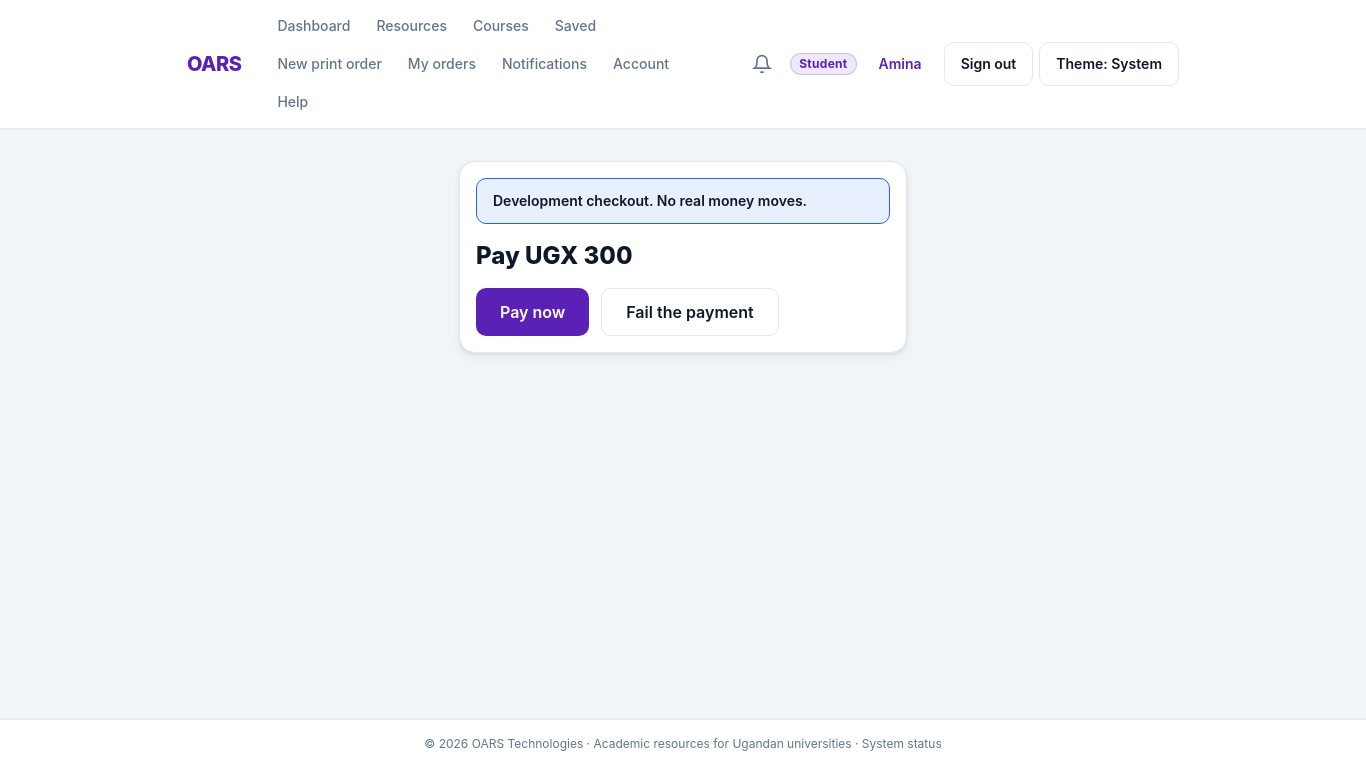
Test: FakeCheckoutPage (development only) › drives the signed-webhook pipeline through the dev endpoint, then shows what the SERVER says
Expected: the heading "Pay UGX 300" is shown, [476, 241, 632, 270]
Click the button "Pay now": (533, 312) [476, 288, 589, 336]
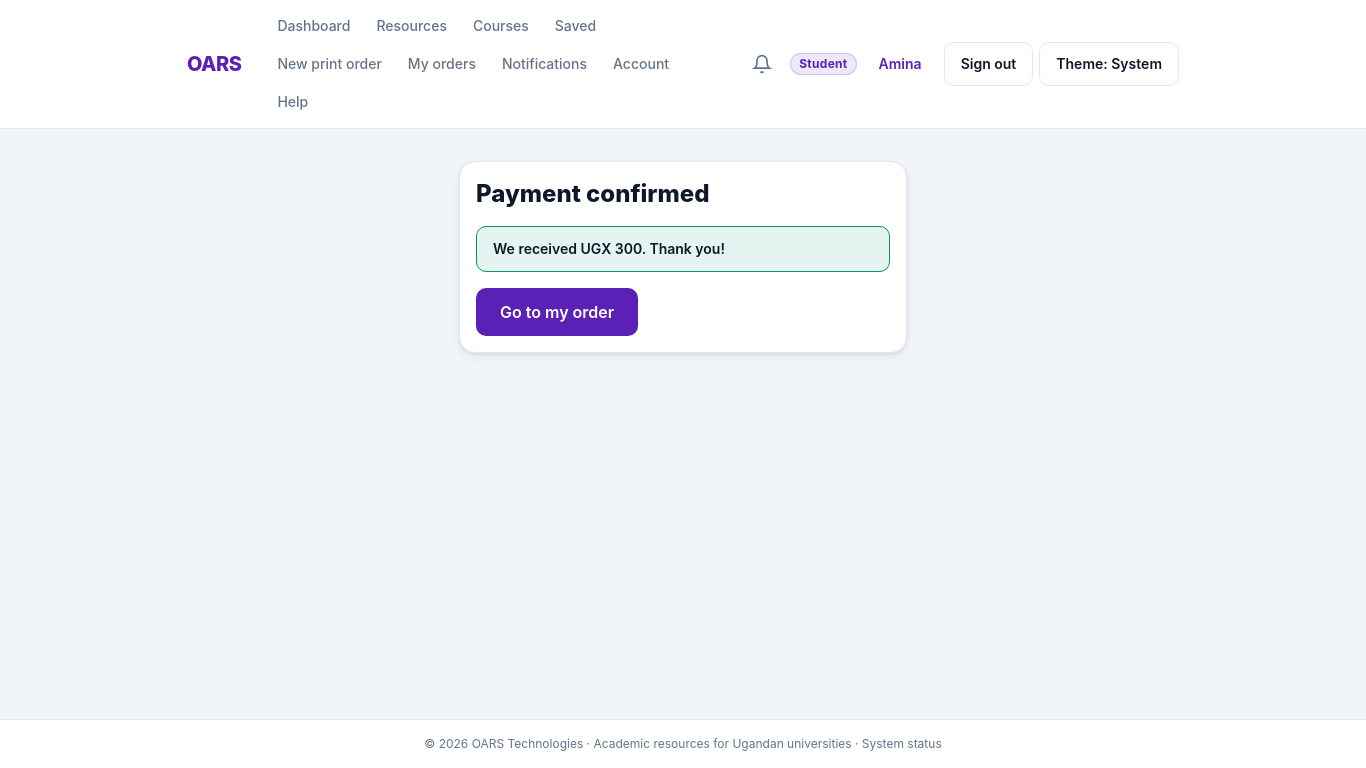
Expected: the heading "Payment confirmed" is shown, [476, 179, 710, 208]
